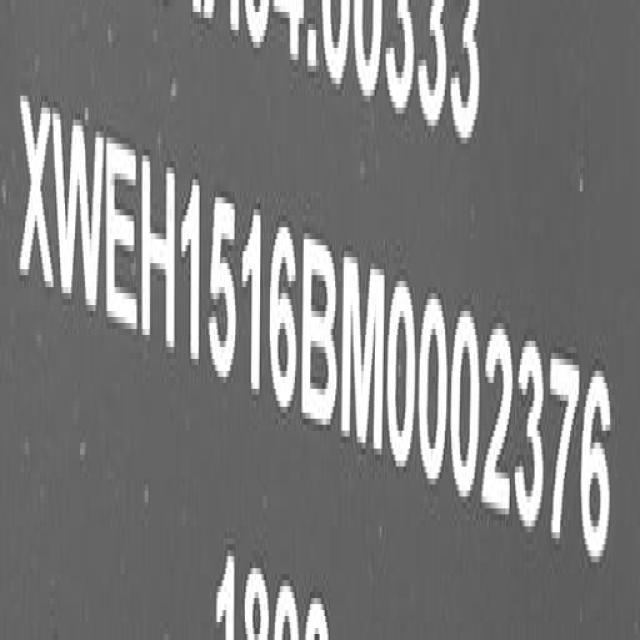0: (418, 270, 448, 503), (449, 295, 479, 514), (388, 268, 416, 479)
1: (179, 150, 204, 378), (242, 198, 264, 406)
2: (482, 315, 512, 527)
3: (513, 328, 547, 527)
5: (208, 173, 236, 385)
6: (268, 206, 300, 414), (580, 357, 610, 562)
7: (550, 345, 580, 545)
B: (298, 224, 338, 445)
E: (104, 124, 140, 348)
H: (138, 140, 176, 361)
M: (339, 246, 386, 467)
W: (50, 95, 106, 332)
X: (20, 89, 55, 304)
